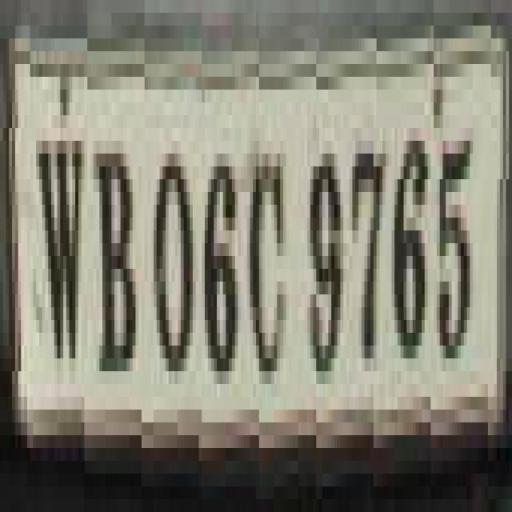number plate: (0, 13, 491, 499)
